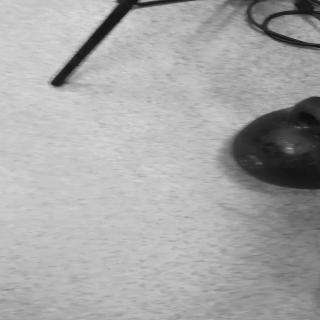kettlebell: (236, 95, 320, 191)
